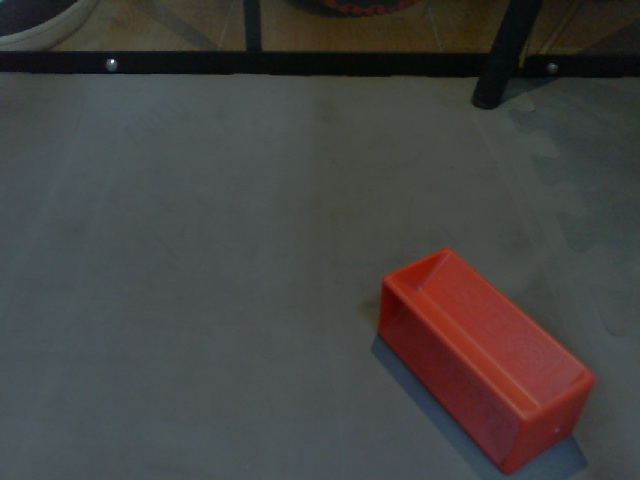RedSample: (377, 244, 600, 475)
